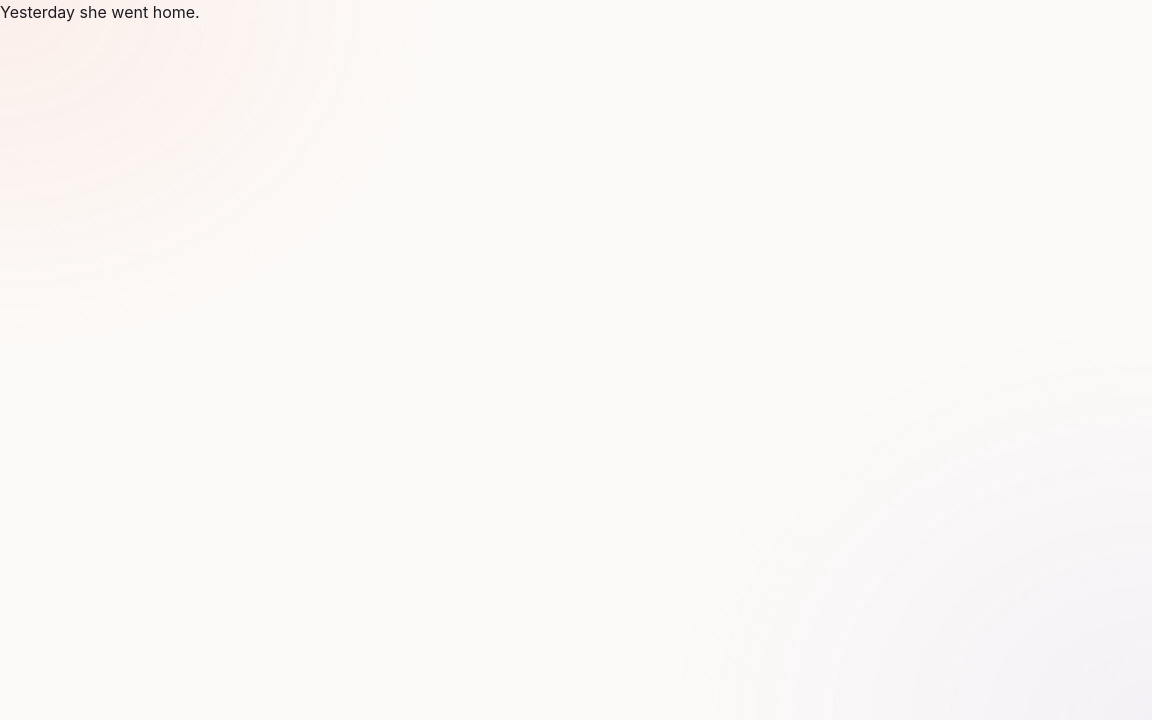
Test: WordPopup › says when the word is already on the list
The width and height of the screenshot is (1152, 720).
Click the text "went": point(130, 12) x1=111 y1=2 x2=148 y2=22
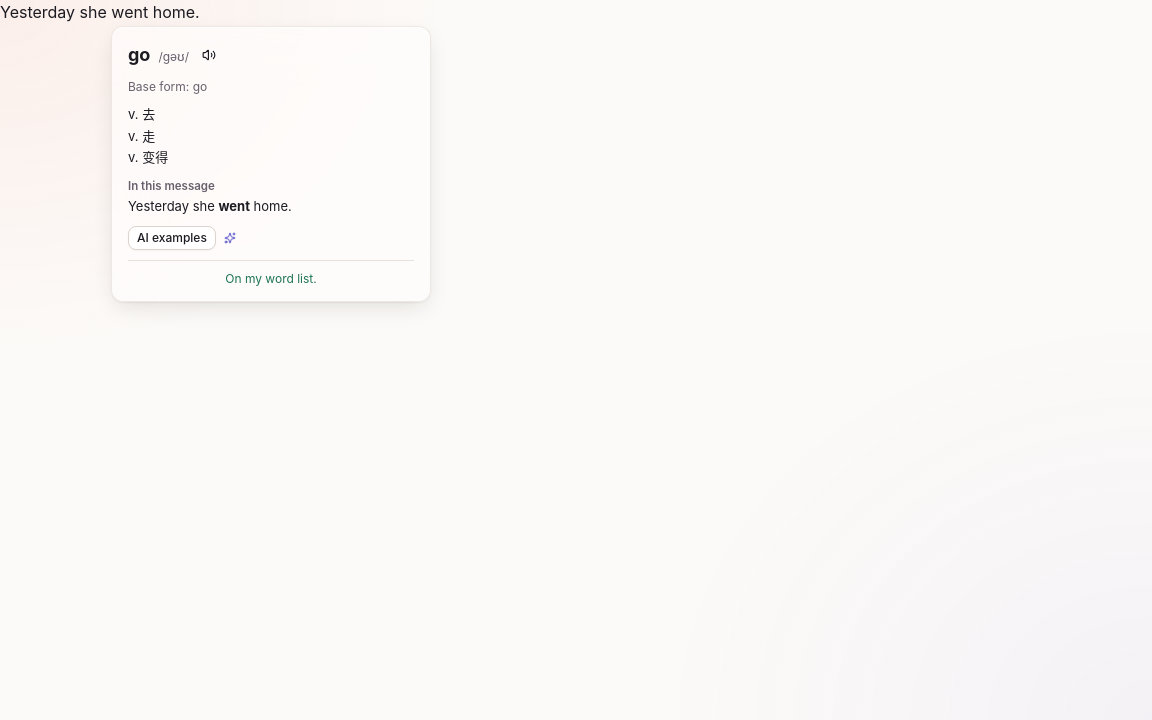
expect the message reads "On my word list.": met, box x1=225 y1=271 x2=317 y2=286
